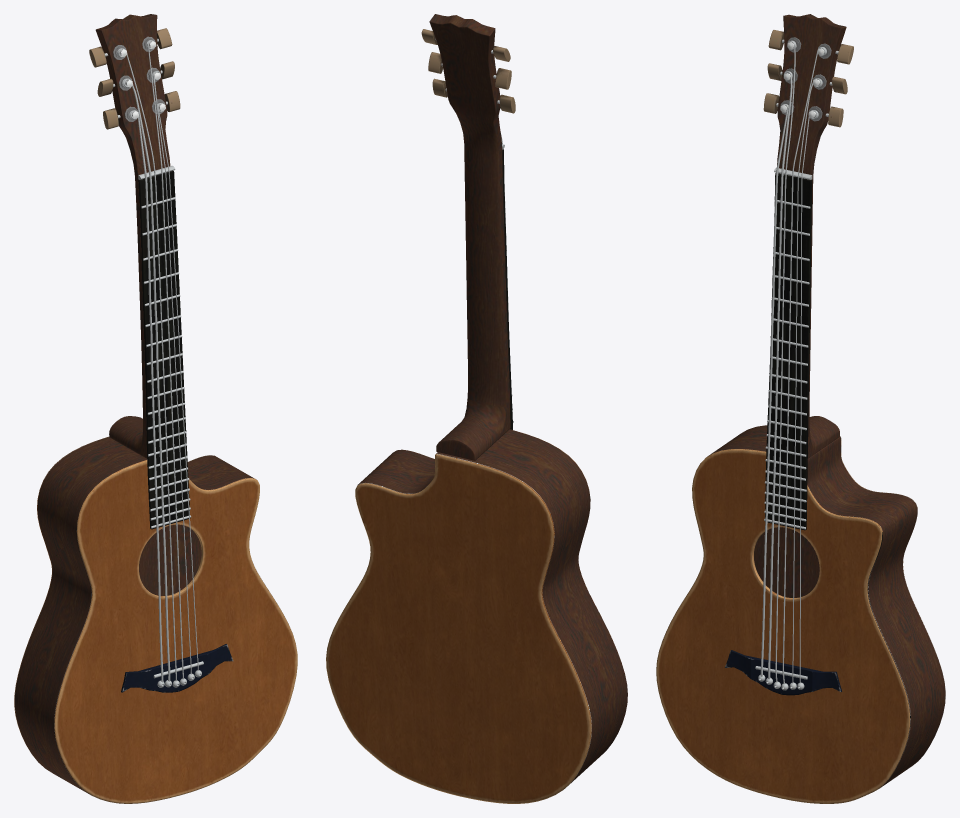
The model's file is guitar.gltf.
3 views of the same model, side by side, from view 1: azimuth 30°, elevation 25°; view 2: azimuth 150°, elevation 25°; view 3: azimuth 330°, elevation 25° (orthographic). The views are drawn at different scales.
Parts seen in each view (by area): view 1: Object_4.001; view 2: Object_4.001; view 3: Object_4.001.
Boxes of the visible parts, box(x1,y1,x2,y2) form: Object_4.001: box(14, 14, 297, 803); Object_4.001: box(326, 14, 627, 803); Object_4.001: box(656, 14, 945, 803).
Bounding box in the file's own units: 4.16 × 11.98 × 1.46.
Materials: 1 (1 with a texture image).
